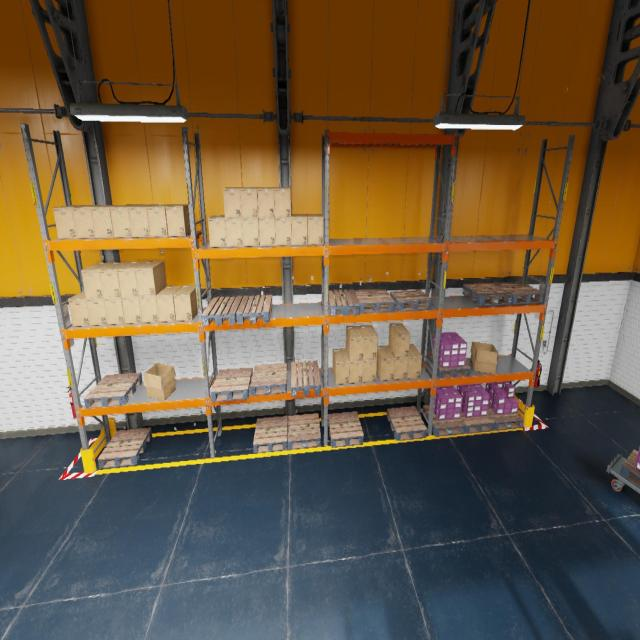box: (52, 205, 88, 239), (144, 362, 176, 400), (81, 263, 114, 298), (91, 205, 125, 238), (99, 262, 131, 297), (135, 260, 166, 296), (72, 205, 104, 238), (110, 205, 141, 238), (118, 262, 148, 296), (128, 204, 157, 237), (156, 286, 182, 322), (470, 341, 498, 374), (174, 285, 198, 321), (147, 204, 173, 237), (68, 290, 90, 326), (166, 204, 190, 236), (388, 323, 410, 357), (359, 324, 378, 360), (388, 346, 408, 380), (377, 346, 395, 380), (346, 326, 364, 360), (223, 188, 243, 218), (86, 298, 108, 325), (121, 296, 142, 324), (104, 297, 125, 325), (333, 348, 349, 384), (208, 215, 226, 247), (240, 188, 259, 218), (346, 351, 363, 384), (138, 296, 158, 323), (257, 187, 275, 217), (258, 217, 276, 246), (225, 218, 243, 247), (307, 213, 323, 245), (407, 344, 422, 378), (274, 187, 291, 217), (292, 214, 308, 245), (242, 218, 259, 246), (275, 218, 292, 245), (362, 359, 377, 382)
pallets: (98, 428, 152, 468), (84, 373, 142, 408), (210, 367, 252, 402), (387, 406, 427, 440), (422, 405, 465, 436), (253, 416, 288, 453), (328, 412, 363, 448), (250, 363, 287, 396), (202, 296, 242, 326), (288, 413, 320, 450), (492, 282, 544, 304), (426, 352, 470, 378), (462, 283, 512, 305), (236, 295, 272, 324), (291, 361, 320, 396), (354, 289, 395, 313), (390, 290, 432, 312), (488, 406, 524, 430), (328, 290, 360, 316), (460, 411, 495, 433), (620, 450, 640, 488)
